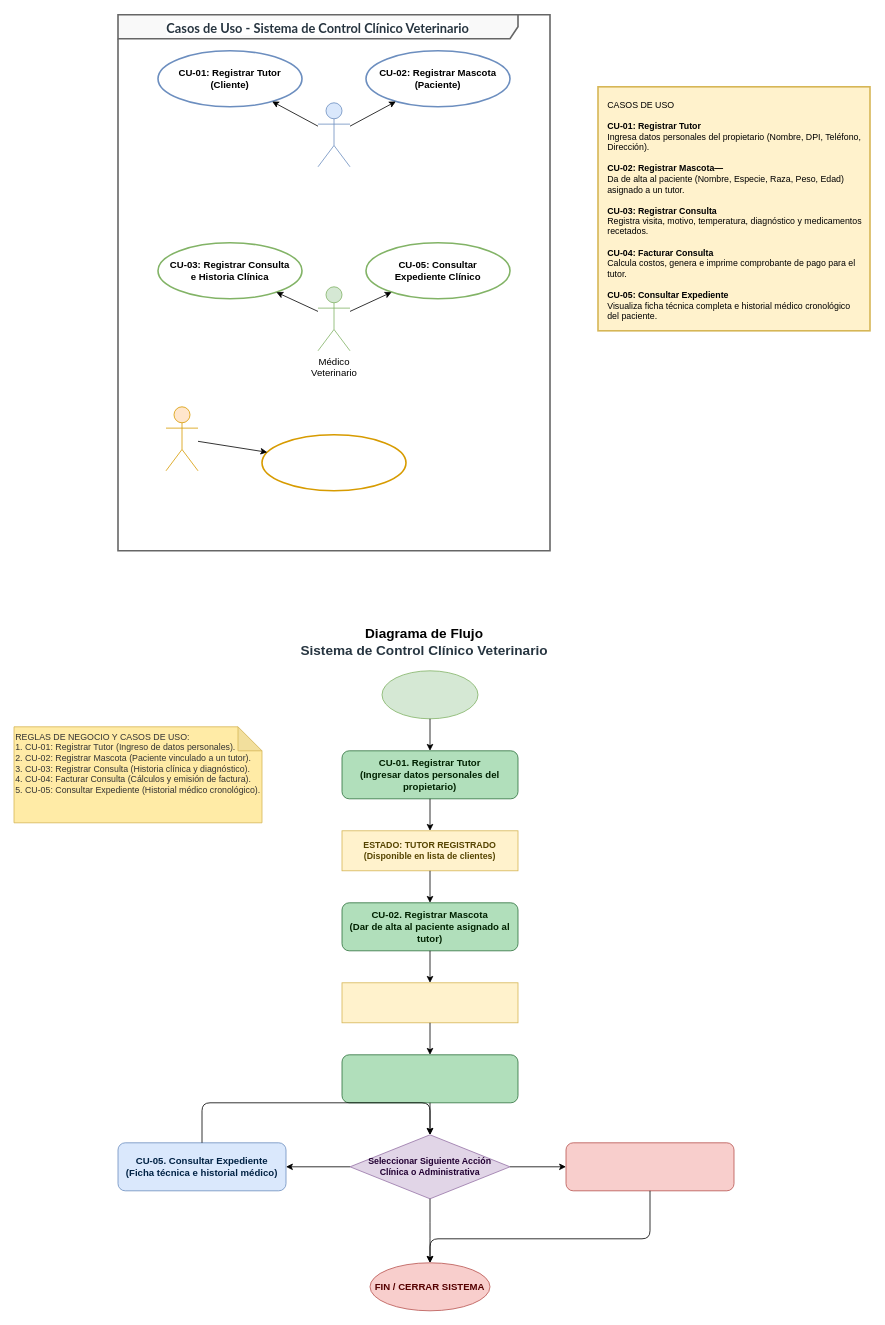
The diagram is 885 pixels wide and 1325 high, and some of its shapes have lost their labels. The centre of each missing label's shape, as x and y in pixels:
Cajero / Personal Admin: (x=181, y=438)
CU-03. Registrar Consulta (Motivo, temperatura, diagnóstico y receta): (x=429, y=1078)
CU-04. Facturar Consulta (Cálculo de costos y comprobante): (x=649, y=1166)
CU-04: Facturar Consulta y Medicamentos: (x=333, y=462)
ESTADO: PACIENTE ACTIVO (Mascota lista para atención médica): (x=429, y=1002)
INICIO: (x=429, y=694)
Recepcionista / Administrativo: (x=333, y=134)
